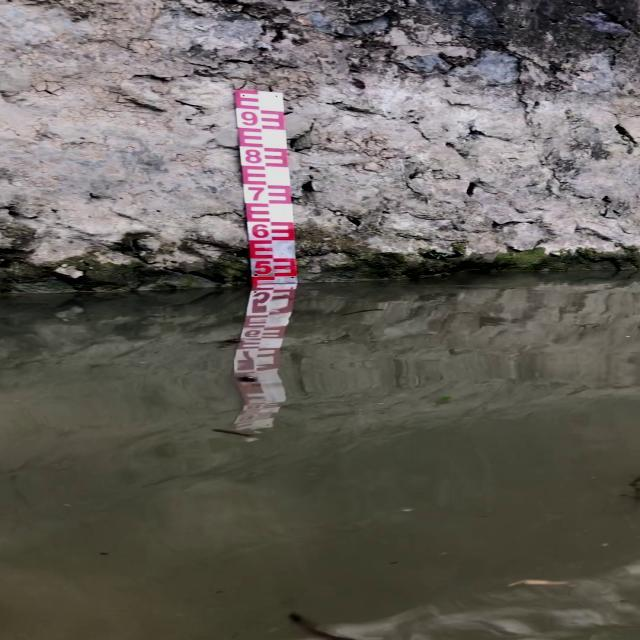ruler: (229, 84, 307, 296)
value: (236, 106, 264, 128), (240, 144, 265, 167), (242, 183, 269, 204), (252, 258, 276, 280), (246, 220, 272, 240)
